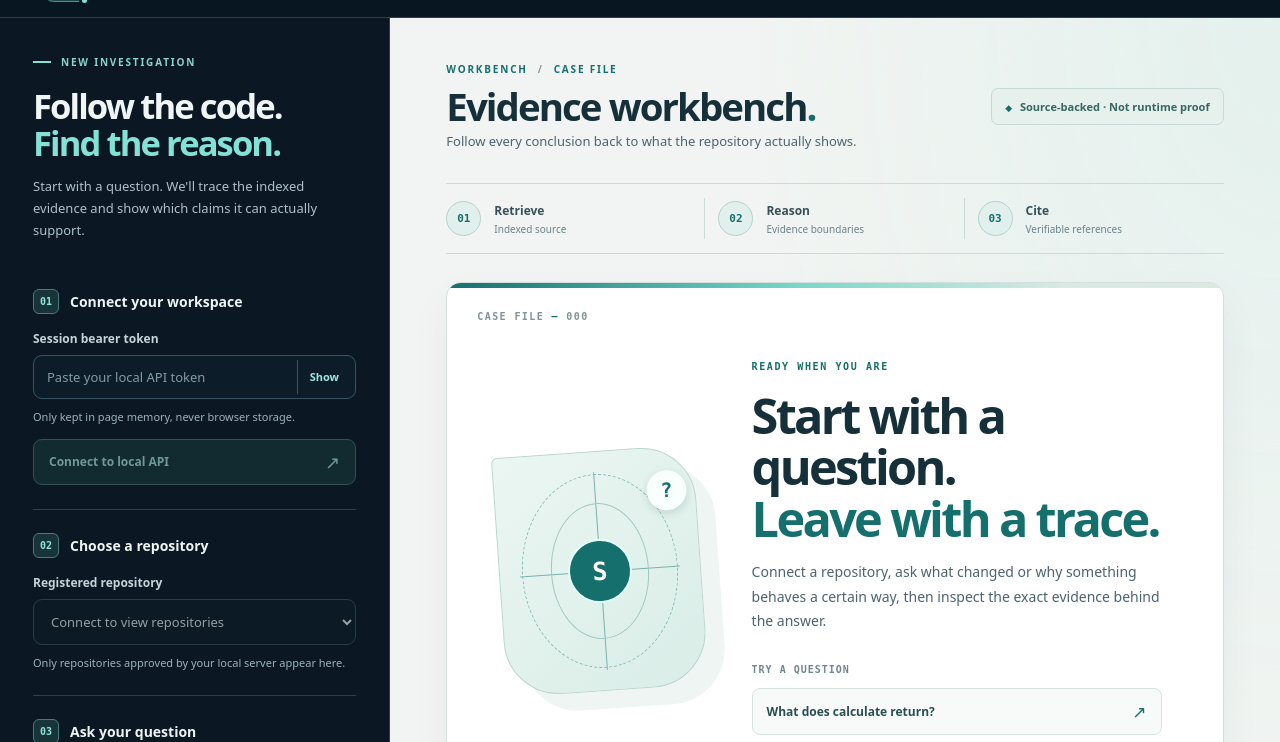
Test: local evidence workbench › supports an insufficient-evidence result without fabricated claims
Type "test-local-token" into the password field labelled "Session bearer token". click: {"x": 194, "y": 377}
box: [33, 355, 356, 399]
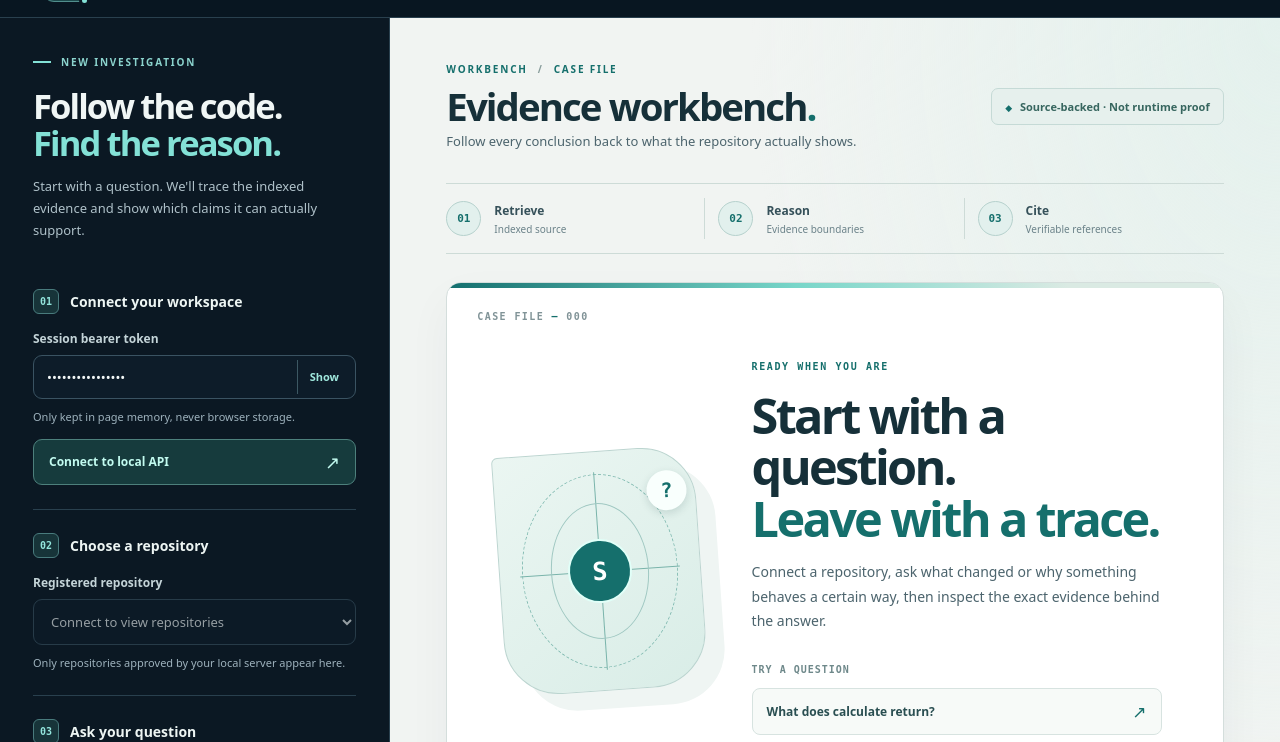
Click the button "Connect to local API". click: {"x": 109, "y": 462}
box: [33, 439, 356, 485]
(page scrolled)
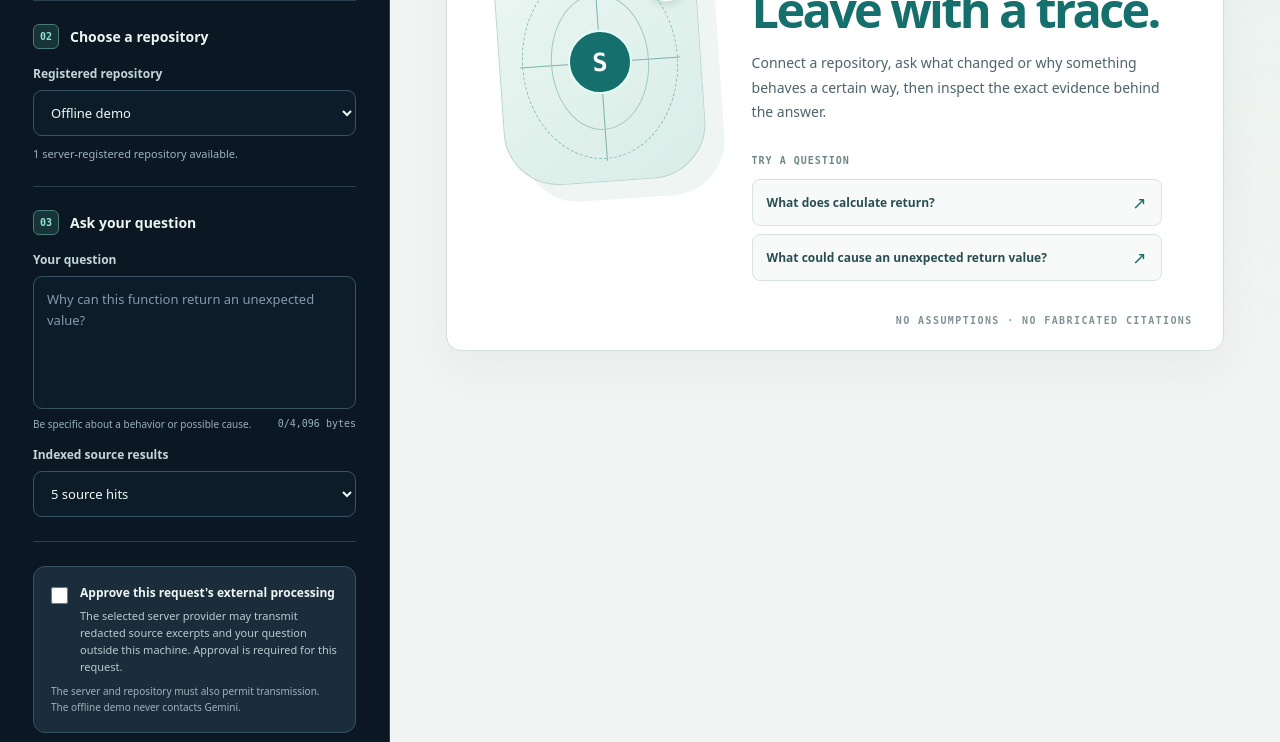
Type "What does the code return?" into the text box labelled "Your question". click: {"x": 194, "y": 343}
box: [33, 276, 356, 409]
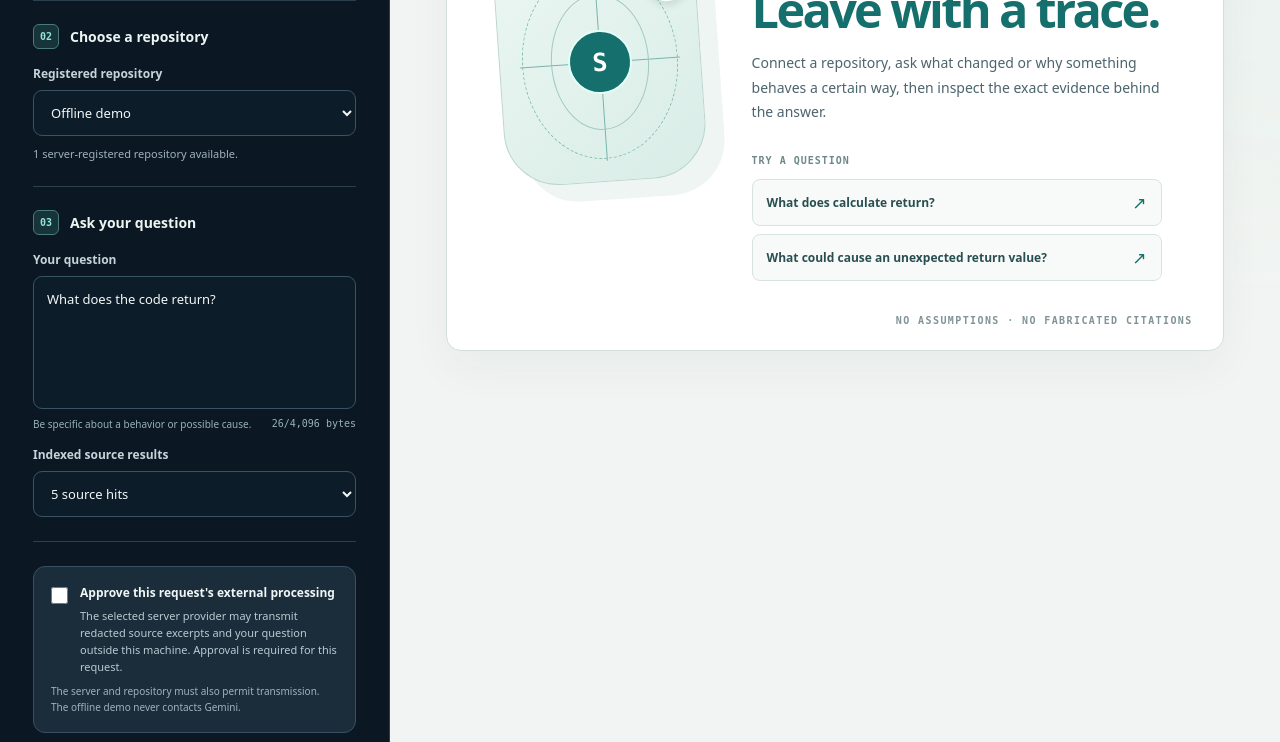
Click the checkbox named "Approve this request.s external processing". click: {"x": 60, "y": 595}
box: [51, 587, 68, 604]
(page scrolled)
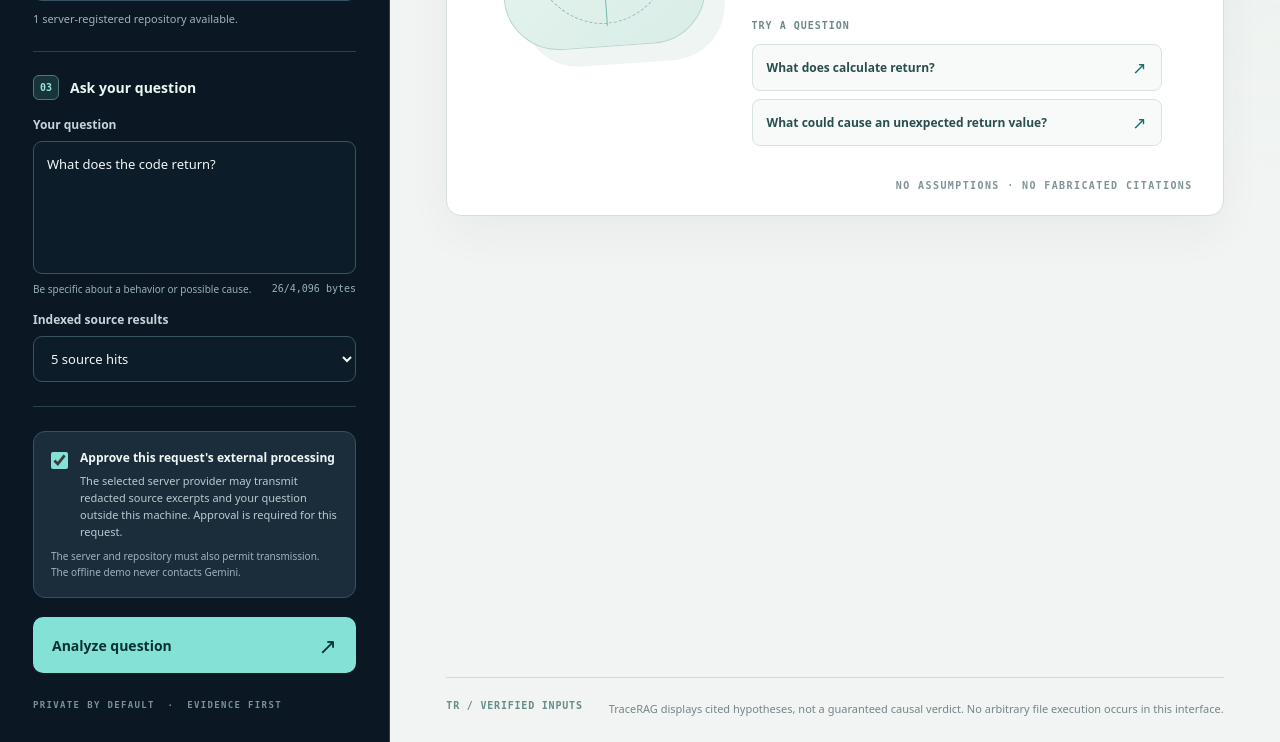
Click the button "Analyze question ↗". click: {"x": 112, "y": 645}
box: [33, 617, 356, 673]
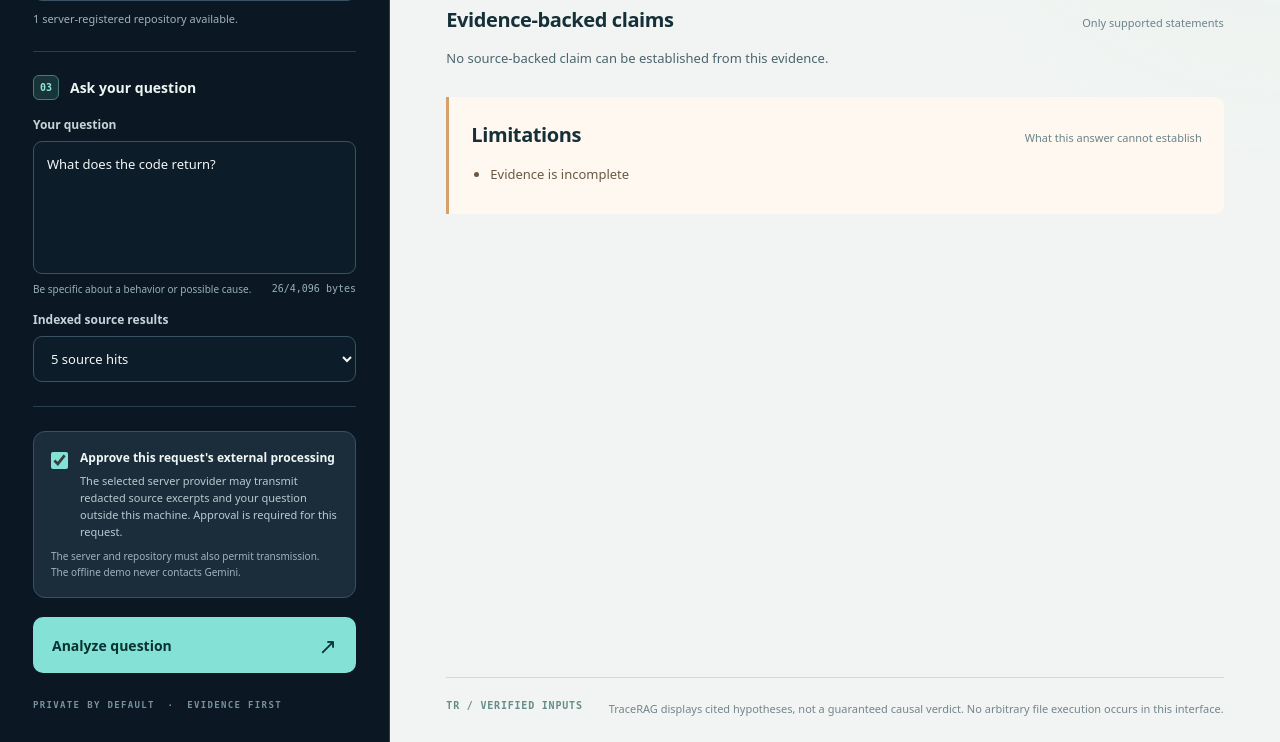
Expected: the text "No source-backed claim can be established from this evidence." is shown, [446, 49, 828, 67]
